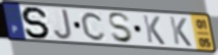C: (80, 11, 108, 42)
J: (53, 8, 74, 41)
K: (141, 14, 167, 47), (168, 16, 194, 48)
S: (21, 6, 52, 40), (107, 12, 135, 45)
